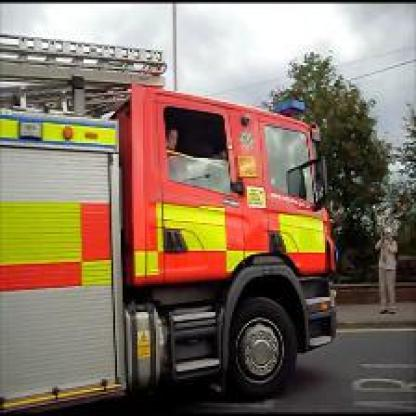other: (116, 102, 338, 270), (0, 206, 108, 282)
